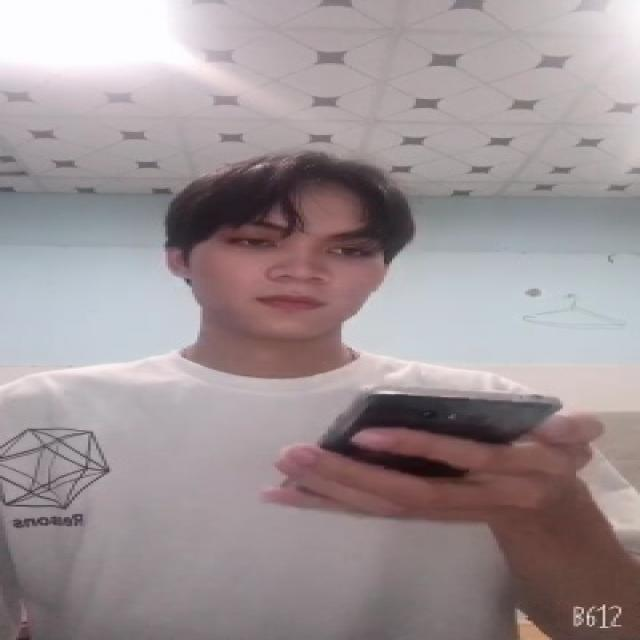Phone: (281, 385, 565, 495)
